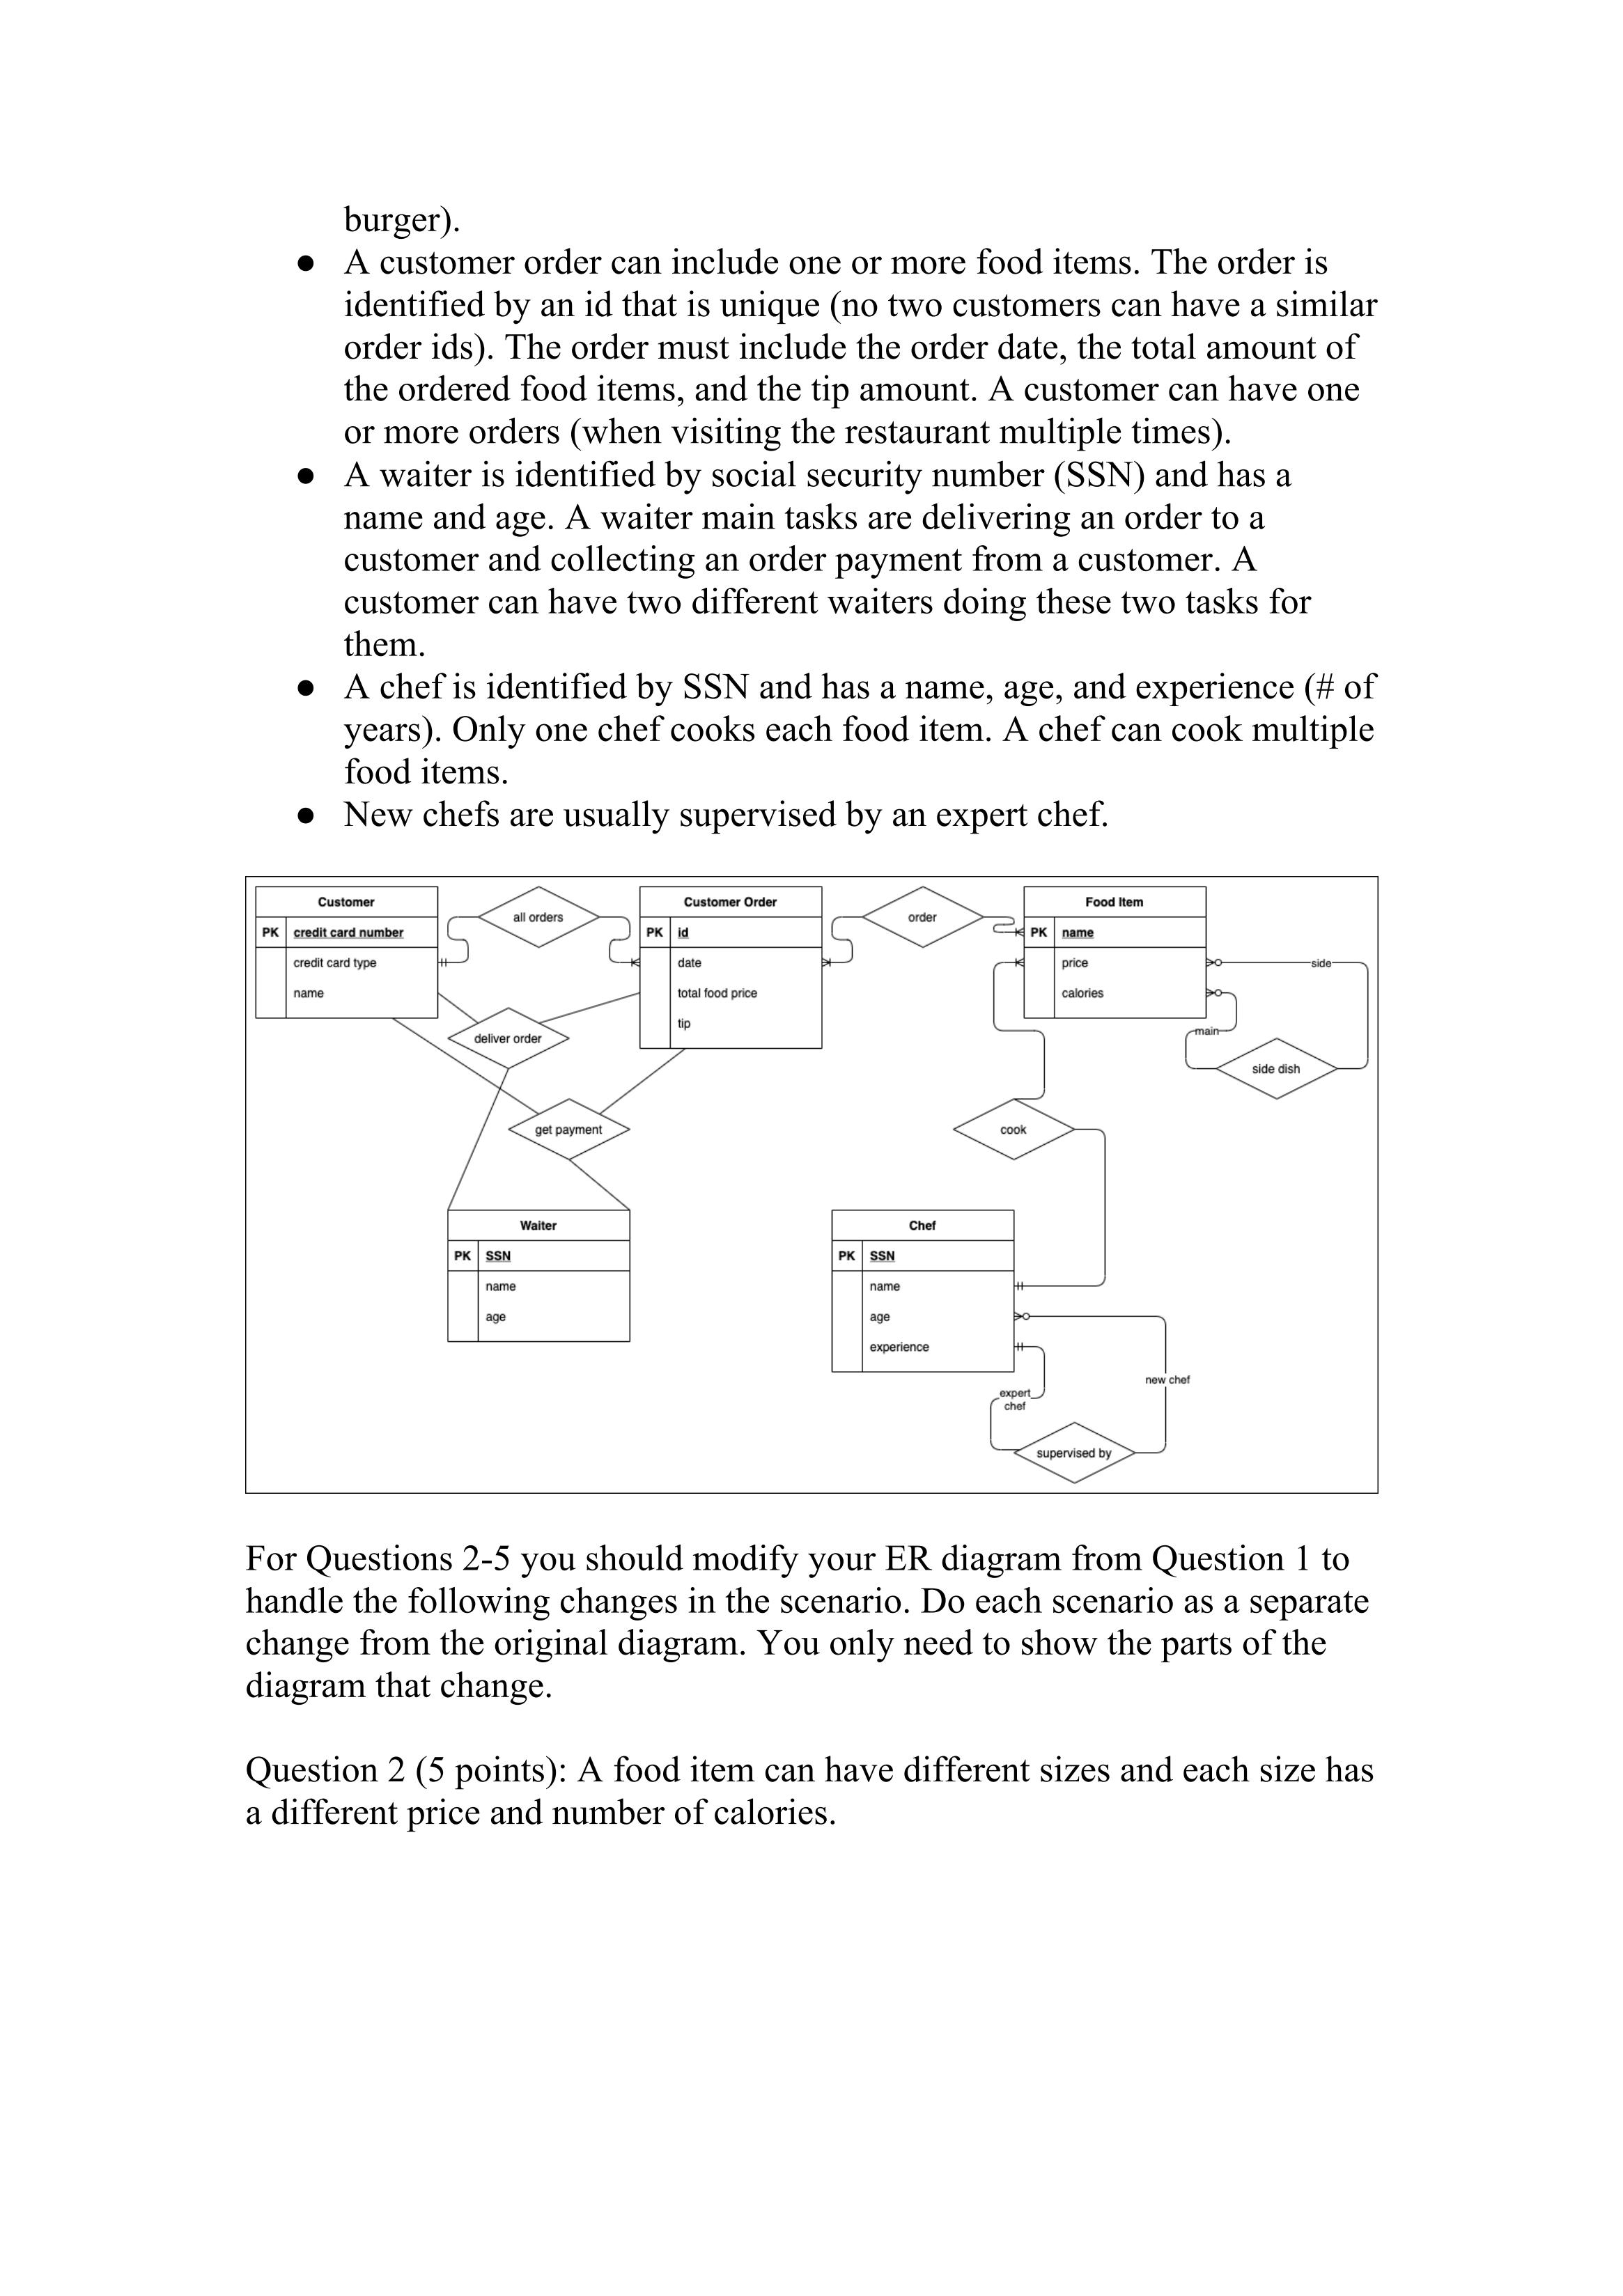Entity: (639, 885, 824, 1050), (831, 1209, 1015, 1373), (255, 885, 439, 1020), (1022, 886, 1208, 1020), (446, 1209, 632, 1343)
Relationship: (954, 1099, 1077, 1162), (446, 1006, 569, 1069), (864, 885, 985, 948), (478, 885, 599, 948), (508, 1097, 629, 1160), (1013, 1422, 1136, 1483), (1215, 1037, 1337, 1099)
